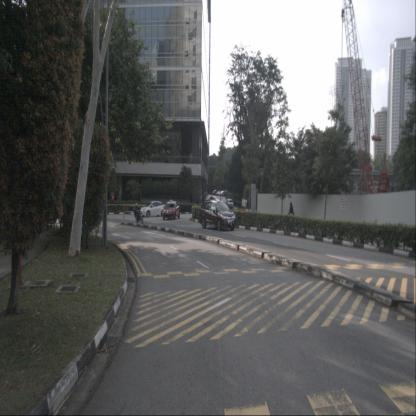human-pedestrian-adult: (288, 202, 295, 228)
vehicle-car: (200, 201, 236, 231), (140, 201, 166, 217), (162, 200, 180, 221), (209, 196, 220, 203), (226, 199, 234, 208)
vehicle-motorcycle: (133, 203, 143, 224)
